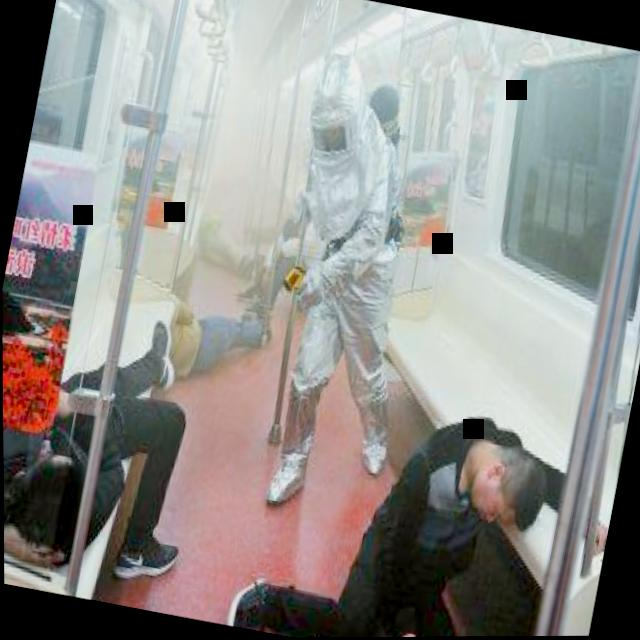Fall-Detected: (2, 285, 232, 607)
